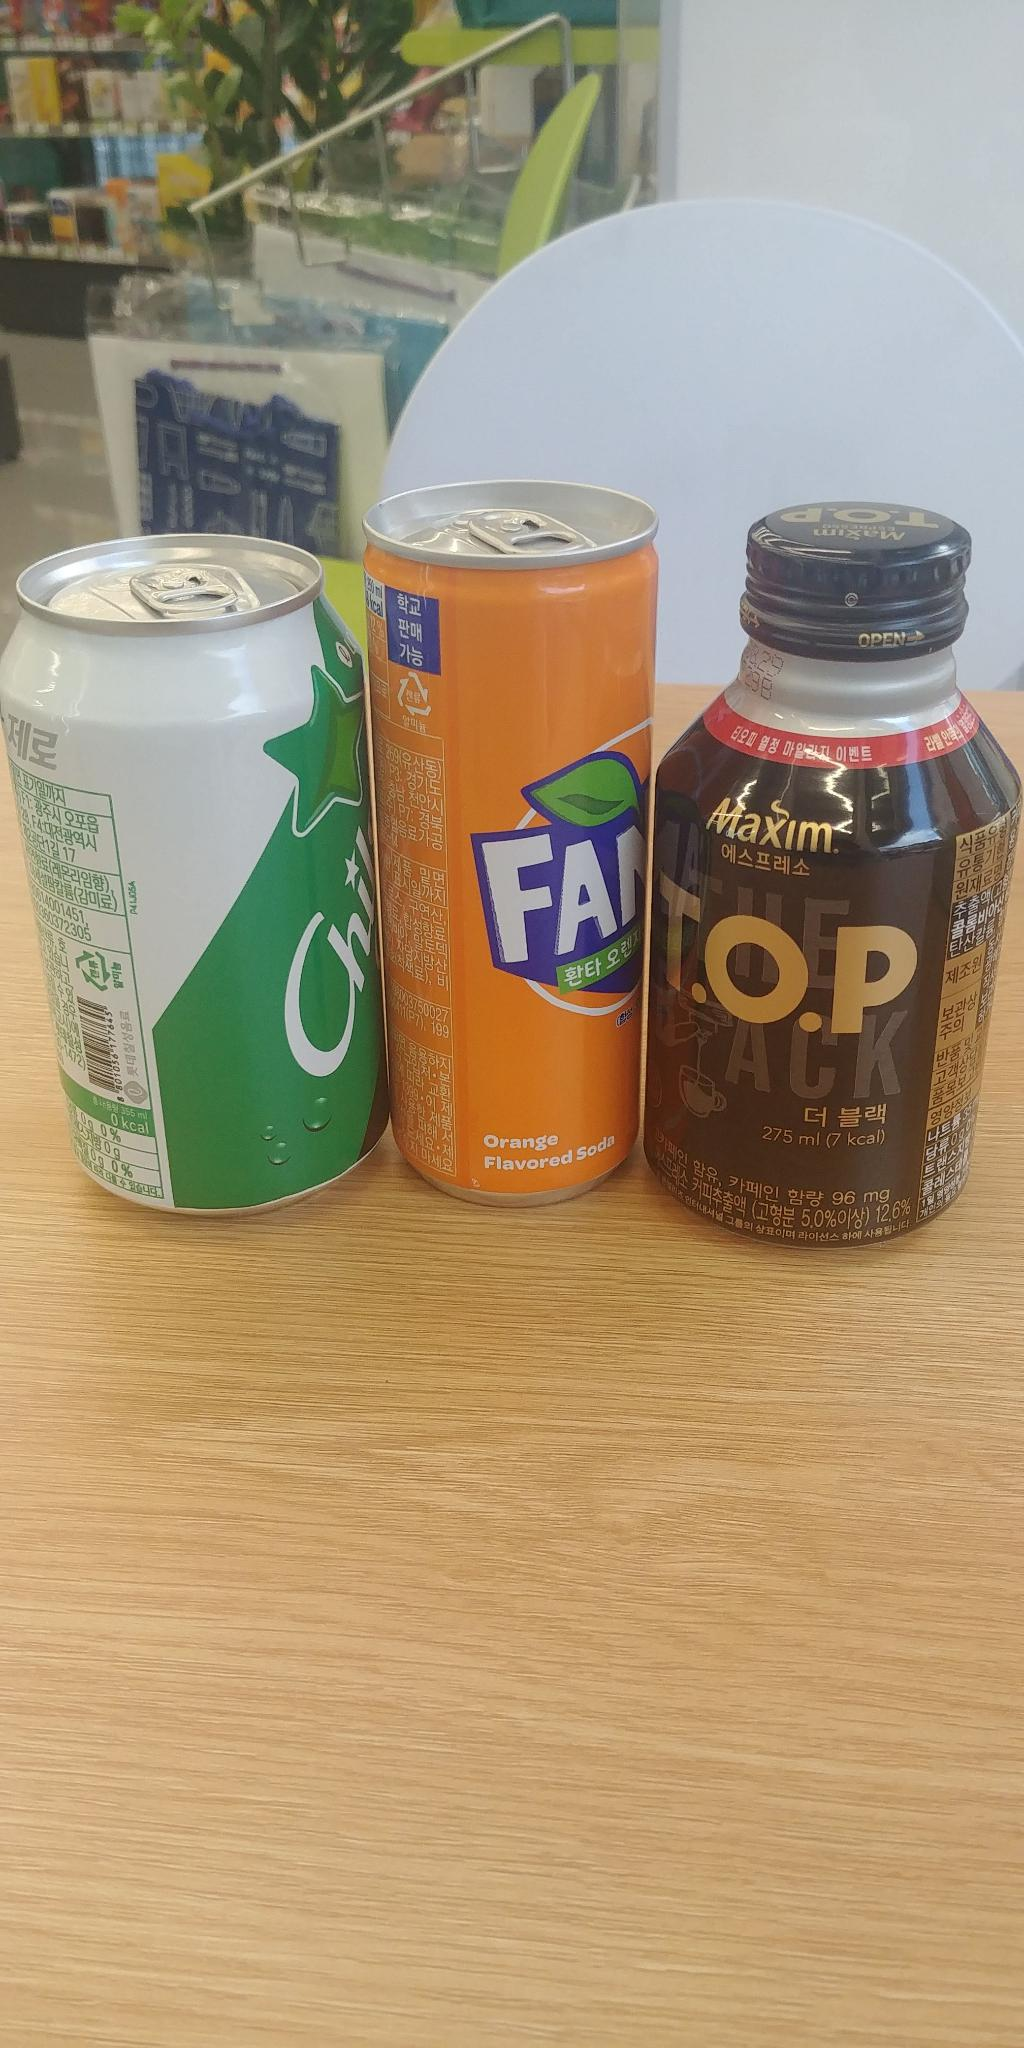TOP_black: (645, 473, 1023, 1258)
